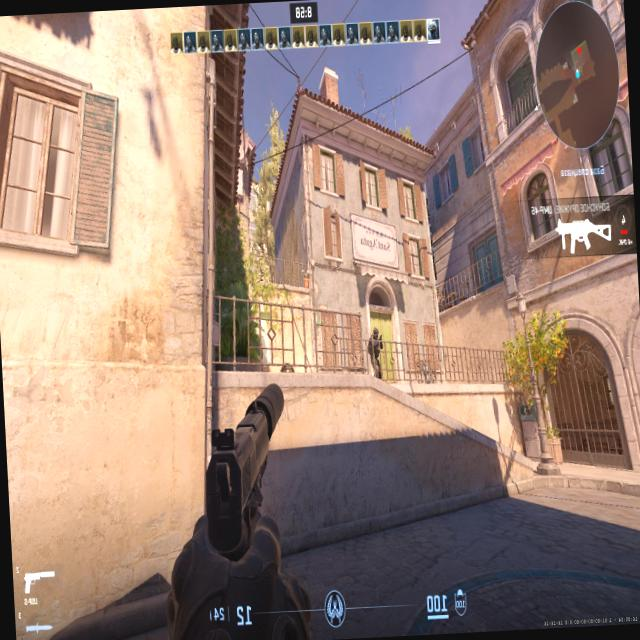CT: (369, 325, 384, 378)
CT_heat: (372, 330, 380, 340)
